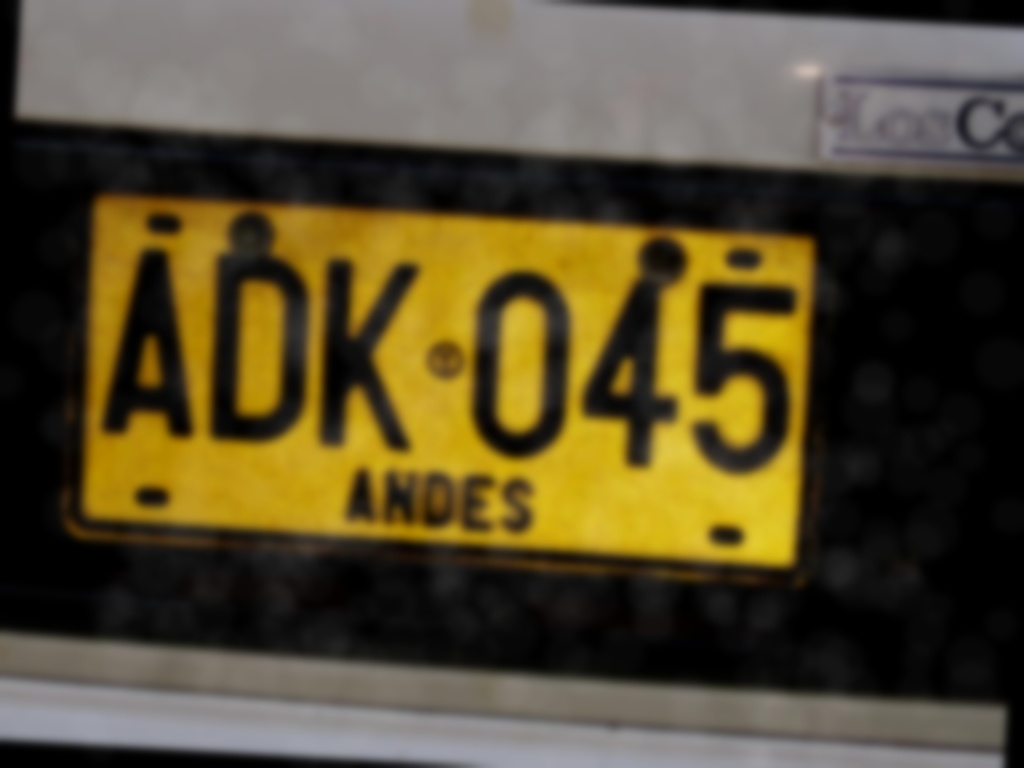placas: (49, 172, 847, 589)
